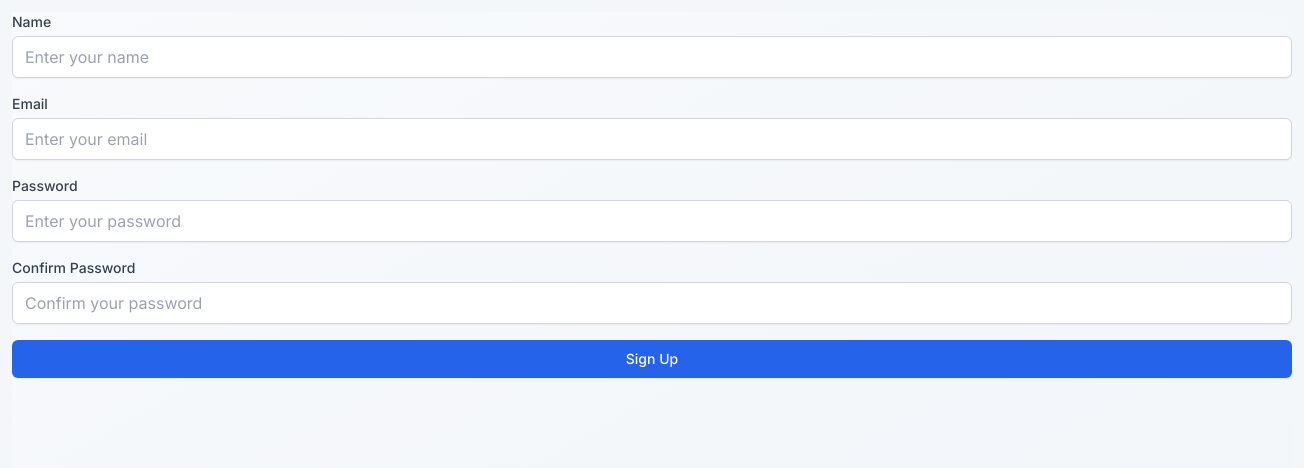
Test case: SignupForm › should show validation error for password mismatch
The width and height of the screenshot is (1304, 468).
Type "user@example.com" into the field with test id "email". click: (652, 139)
box: [12,118,1292,160]
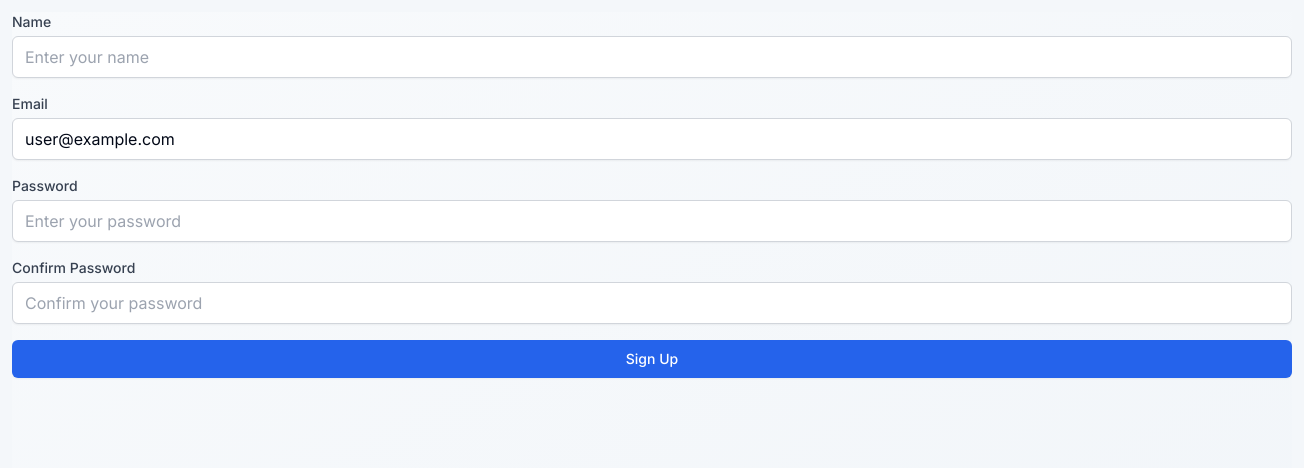
Type "Password123" into the password field with test id "password". click: (652, 221)
box: [12,200,1292,242]
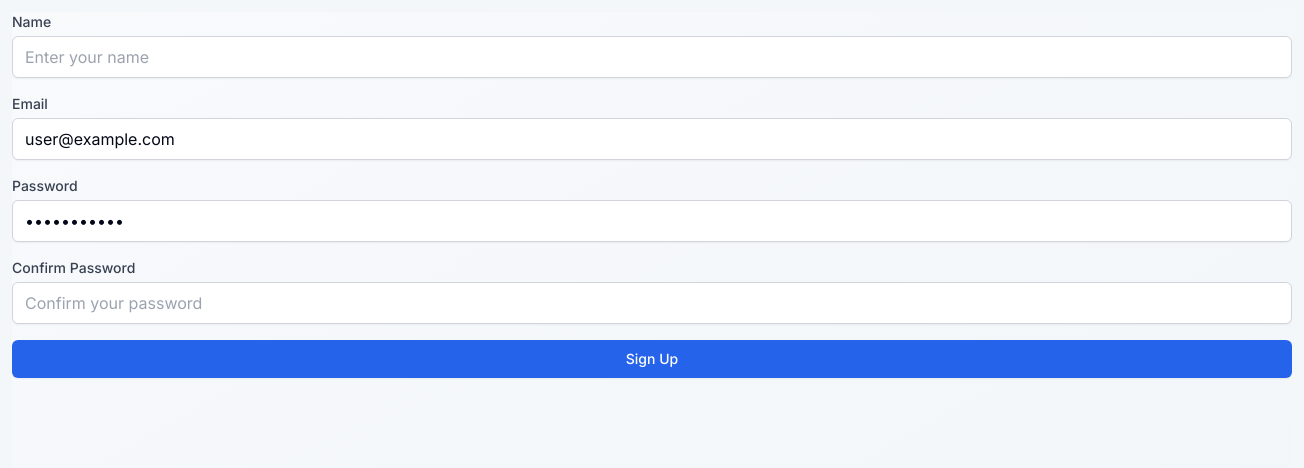
Type "differentpassword" into the password field with test id "confirmPassword". click: (652, 303)
box: [12,282,1292,324]
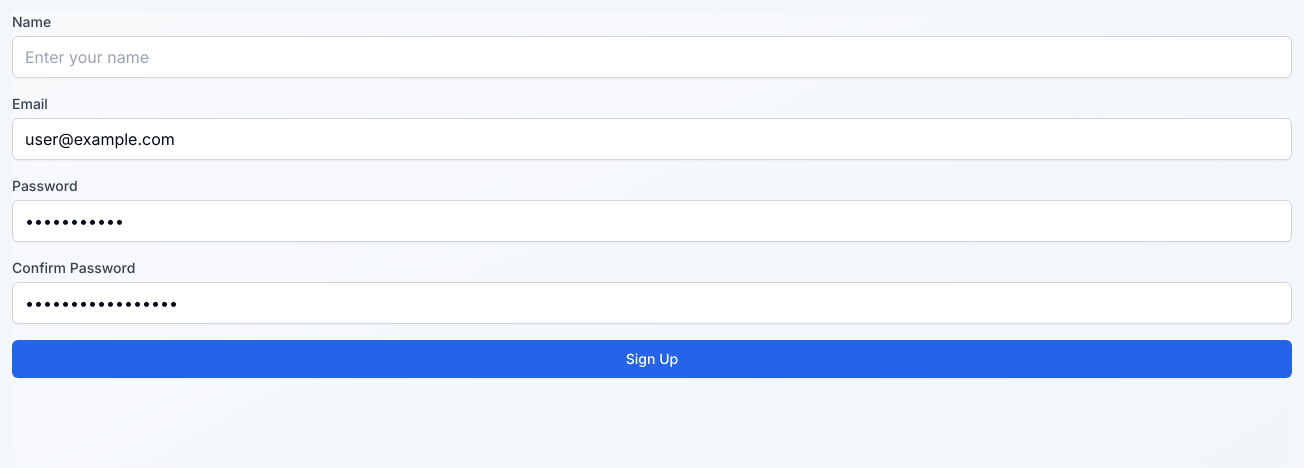
Click the button with test id "signup-button". click: (652, 359)
box: [12,340,1292,378]
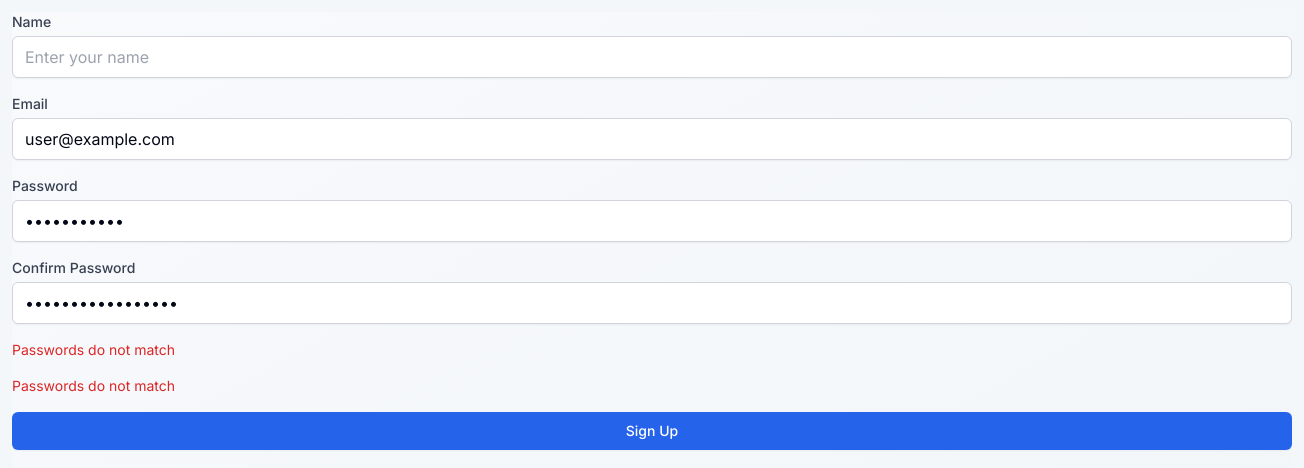
expect the 2nd text "Passwords do not match" is shown: met, box [12,377,175,394]
